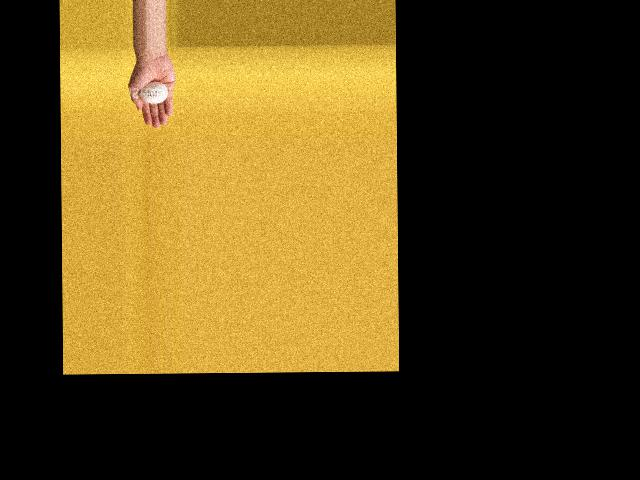egg: (139, 81, 168, 103)
